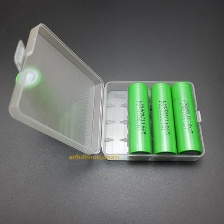battery: (12, 66, 71, 141), (168, 80, 204, 160), (148, 80, 178, 161), (125, 80, 153, 161)
